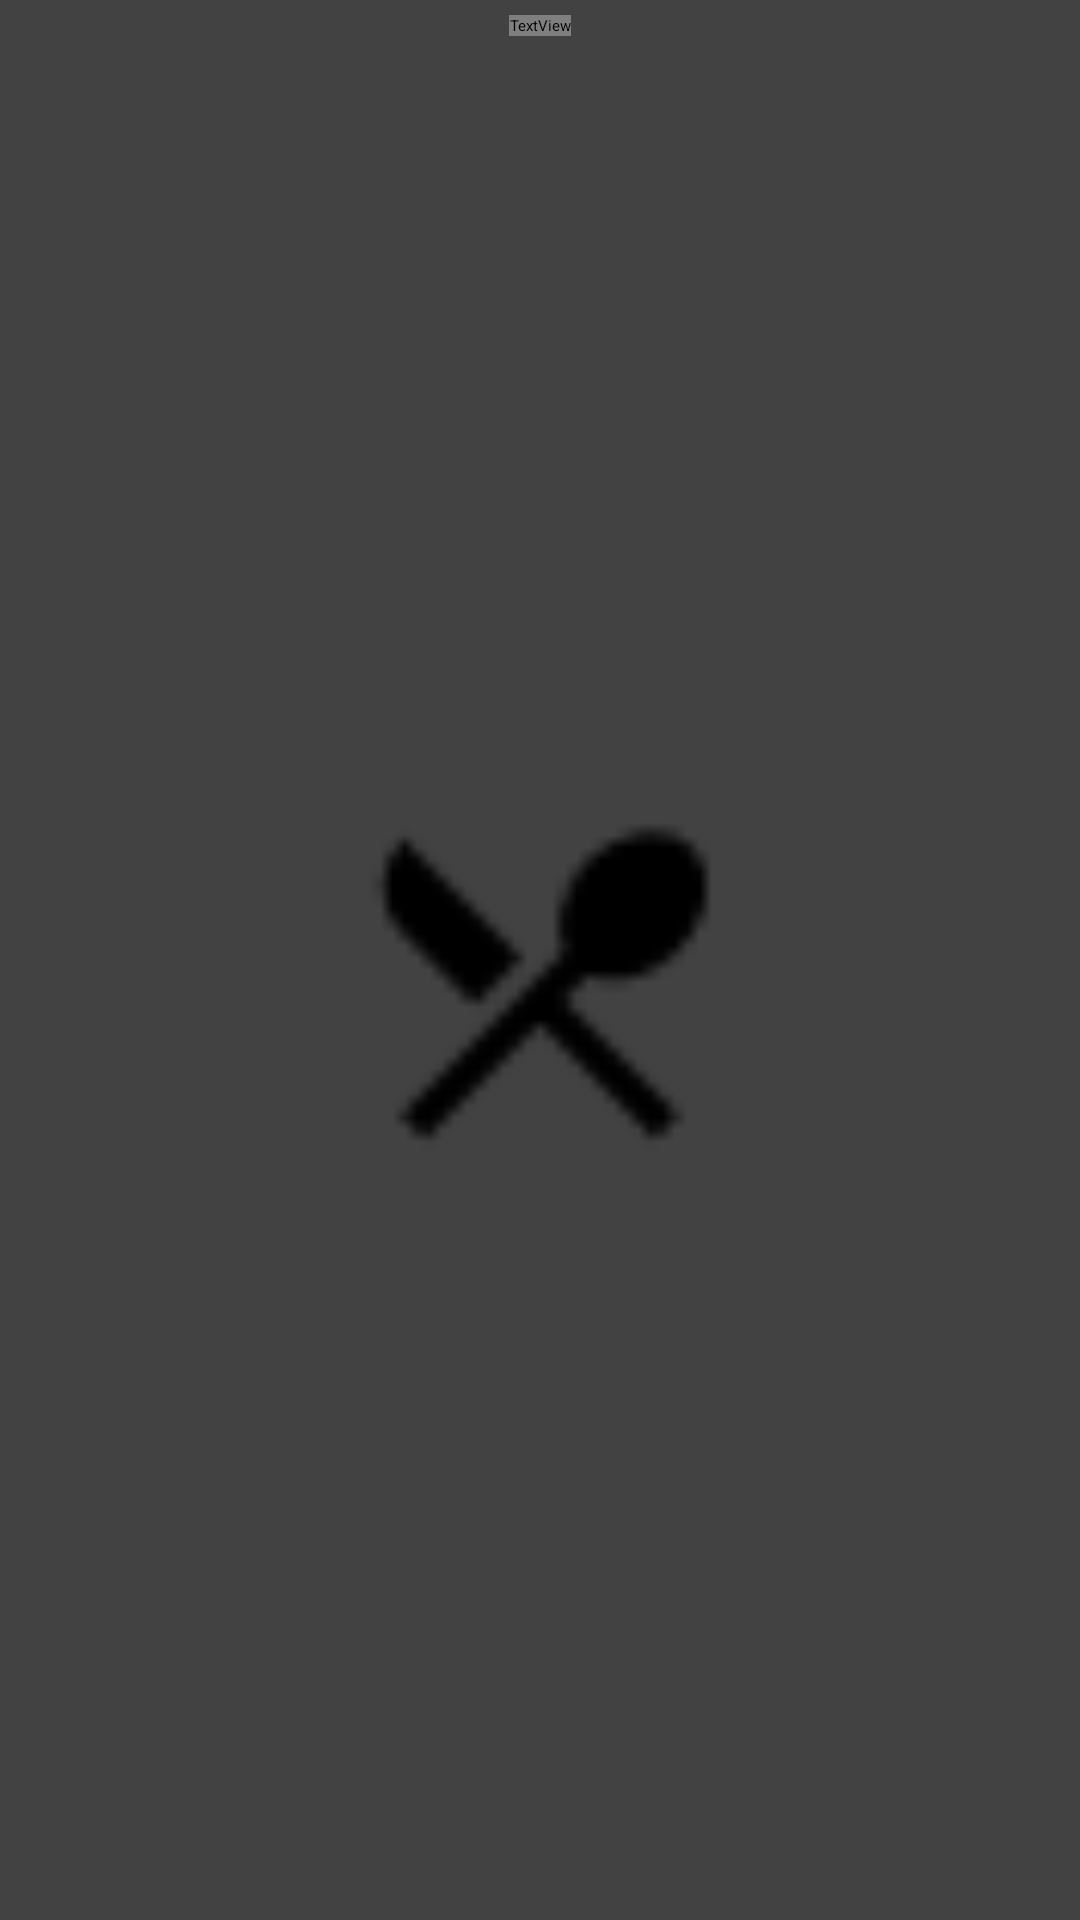

Screen size 1080w x 1920h. Icon name, then its center in pixels as point (x, y):
restaurant: point (544, 983)
